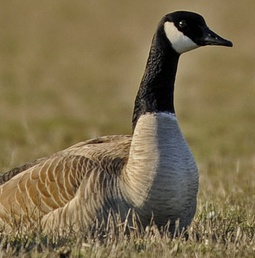goose: (1, 7, 239, 243)
